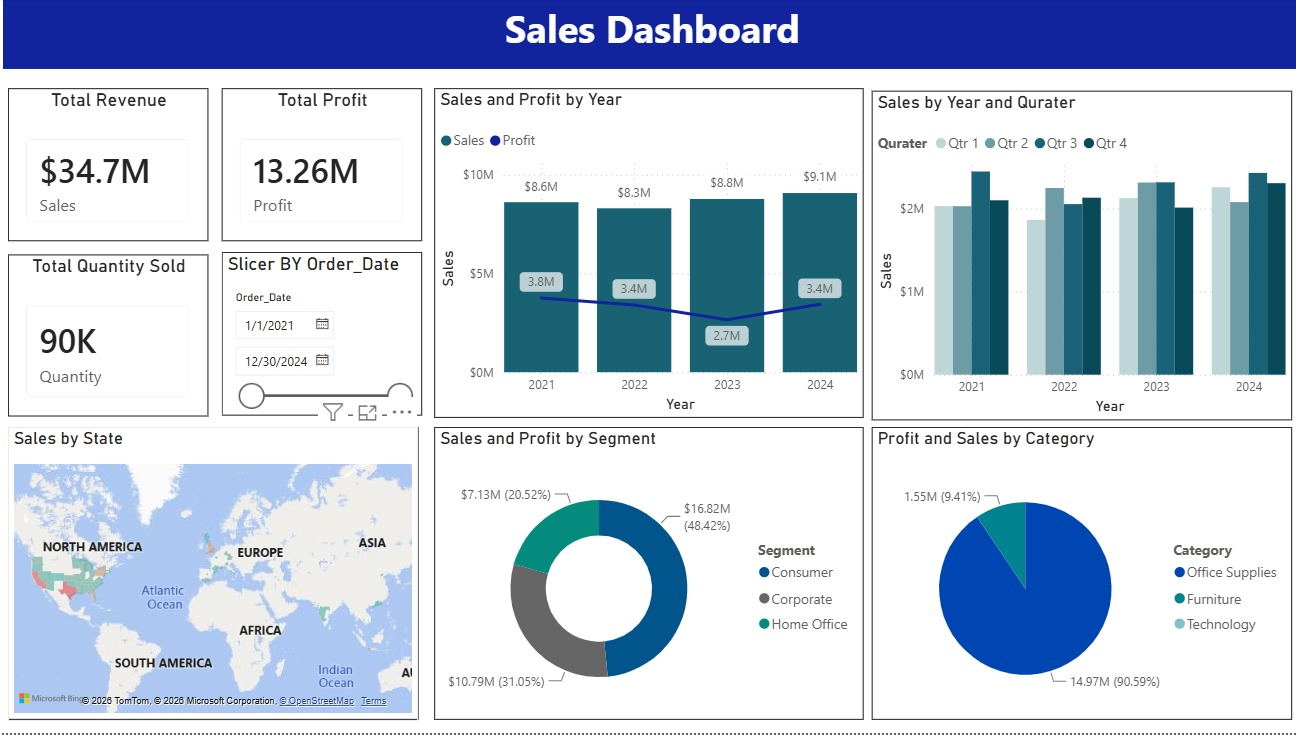

Layout of this report page (visuals, bound fields, positions):
{"tool":"powerbi","page":{"name":"Overall Sales","canvas":[1280,720],"ordinal":0},"visuals":[{"type":"textbox","box":[9.6,0,1270.7,70],"z":0},{"type":"cardVisual","title":"Total Revenue","fields":{"Data":["Sum(Data Cleaning (2).Sales)"]},"box":[15,88.8,196.2,149.6],"z":1000},{"type":"cardVisual","title":"Total Quantity Sold","fields":{"Data":["Sum(Data Cleaning (2).Quantity)"]},"box":[15,252.5,196.2,158.8],"z":2000},{"type":"cardVisual","title":"Total Profit","fields":{"Data":["Sum(Data Cleaning (2).Profit)"]},"box":[223.8,88.8,196.2,149.6],"z":3000},{"type":"slicer","title":"Slicer BY Order_Date","fields":{"Values":["Data Cleaning (2).Order_Date"]},"box":[223.8,250,196.2,160],"z":4000},{"type":"lineStackedColumnComboChart","fields":{"Category":["Data Cleaning (2).Order_Date.Variation.Date Hierarchy.Year","Data Cleaning (2).Order_Date.Variation.Date Hierarchy.Quarter","Data Cleaning (2).Order_Date.Variation.Date Hierarchy.Month","Data Cleaning (2).Order_Date.Variation.Date Hierarchy.Day"],"Y":["Sum(Data Cleaning (2).Sales)"],"Y2":["Sum(Data Cleaning (2).Profit)"]},"box":[431.2,88.8,420,322.5],"z":5000},{"type":"clusteredColumnChart","fields":{"Category":["Data Cleaning (2).Year"],"Series":["Data Cleaning (2).Qurater"],"Y":["Sum(Data Cleaning (2).Sales)"]},"box":[860,91.2,411.2,322.5],"z":6000},{"type":"filledMap","fields":{"Category":["Data Cleaning (2).State"]},"box":[15,421.2,401.2,286.2],"z":7000},{"type":"donutChart","fields":{"Category":["Data Cleaning (2).Segment"],"Y":["Sum(Data Cleaning (2).Sales)"]},"box":[431.2,421.2,420,286.2],"z":8000},{"type":"pieChart","fields":{"Category":["Data Cleaning (2).Category"],"Y":["Sum(Data Cleaning (2).Profit)"]},"box":[860,421.2,411.2,286.2],"z":9000}]}

Visuals, with their boxes in screenshot pixels (x1, y1, x2, y2), scaled from the page's 1280x720 canvas onto the 1296x735 screenshot:
textbox: left=10, top=0, right=1295, bottom=71
"Total Revenue" cardVisual: left=15, top=91, right=214, bottom=243
"Total Quantity Sold" cardVisual: left=15, top=258, right=214, bottom=420
"Total Profit" cardVisual: left=227, top=91, right=425, bottom=243
"Slicer BY Order_Date" slicer: left=227, top=255, right=425, bottom=419
lineStackedColumnComboChart - Data Cleaning (2).Order_Date.Variation.Date Hierarchy.Year x Data Cleaning (2).Order_Date.Variation.Date Hierarchy.Quarter: left=437, top=91, right=862, bottom=420
clusteredColumnChart - Data Cleaning (2).Year x Data Cleaning (2).Qurater: left=871, top=93, right=1287, bottom=422
filledMap - Data Cleaning (2).State: left=15, top=430, right=421, bottom=722
donutChart - Data Cleaning (2).Segment x Sum(Data Cleaning (2).Sales): left=437, top=430, right=862, bottom=722
pieChart - Data Cleaning (2).Category x Sum(Data Cleaning (2).Profit): left=871, top=430, right=1287, bottom=722
